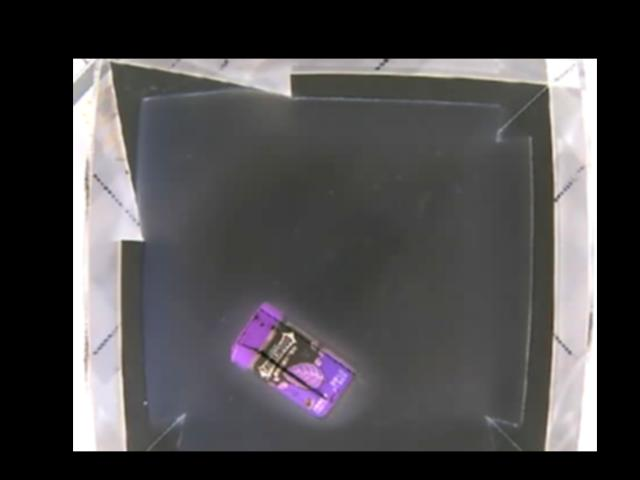Bottle: (229, 301, 358, 421)
